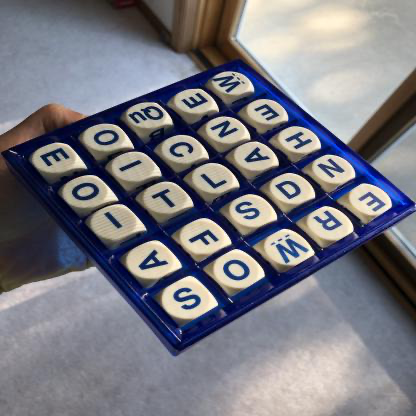a: (127, 246, 176, 281), (235, 143, 276, 174)
c: (162, 136, 205, 166)
d: (270, 175, 313, 207)
e: (33, 144, 78, 174), (349, 187, 393, 216), (175, 90, 215, 115), (247, 101, 287, 125)
f: (181, 222, 228, 256)
h: (279, 128, 319, 154)
i: (92, 208, 139, 240), (112, 153, 157, 184)
l: (193, 165, 236, 194)
n: (313, 158, 355, 186), (207, 118, 245, 146)
o: (215, 254, 262, 289), (63, 177, 110, 209), (84, 125, 127, 153)
qu: (127, 103, 168, 129)
r: (307, 210, 354, 241)
s: (163, 282, 214, 320), (230, 198, 274, 229)
t: (144, 184, 189, 215)
w: (265, 231, 313, 268), (213, 73, 251, 95)
